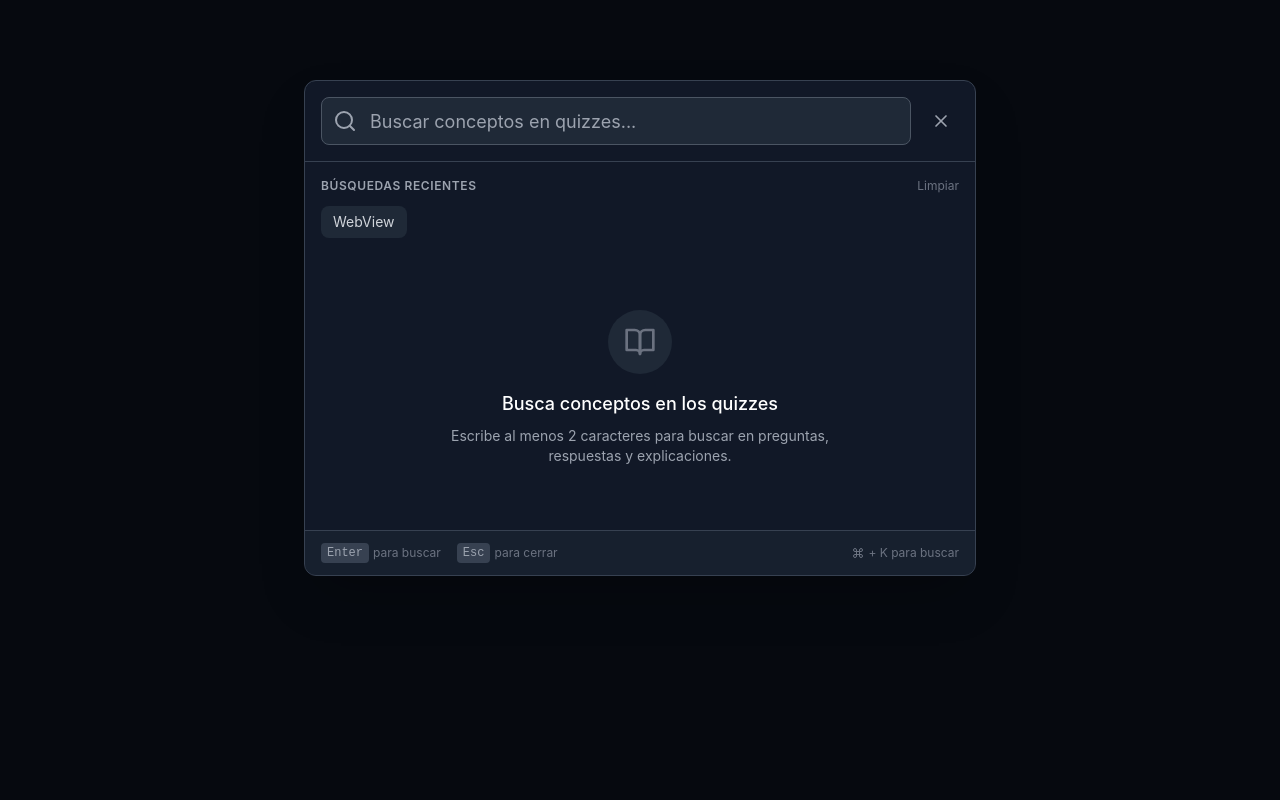
Test: SearchModal › clears recent searches when clicking Limpiar
Click the button "Limpiar" at (938, 186), box [917, 178, 959, 194]
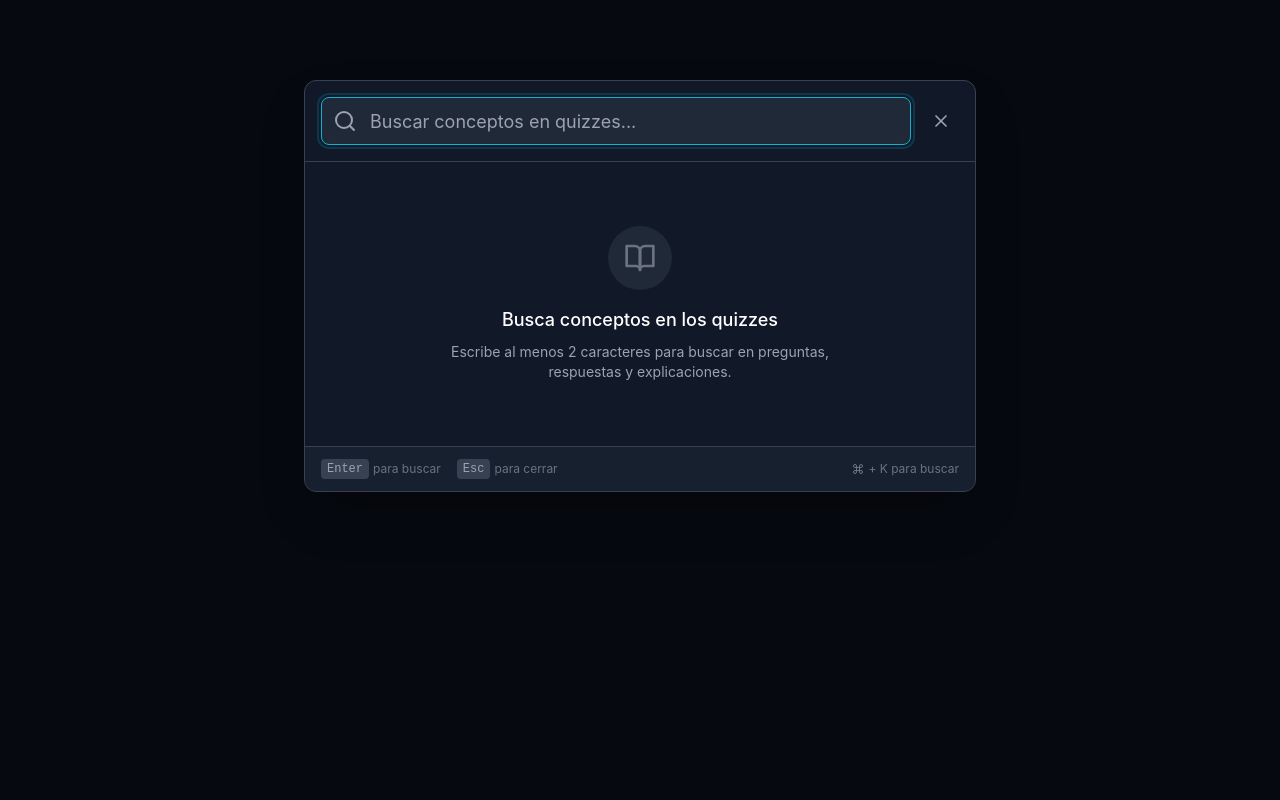
Result: the heading "Búsquedas recientes" is gone
